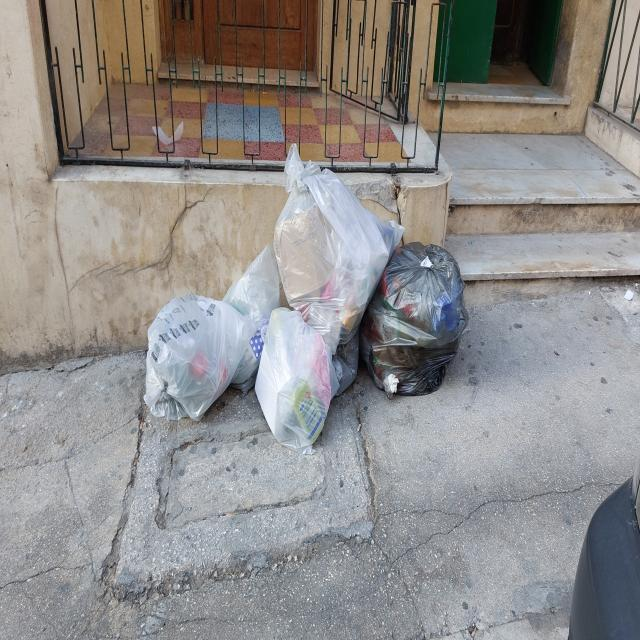Mixed Waste -Black Bag-: (363, 243, 474, 402)
Recycled Waste -Grey or Green Bag-: (274, 144, 406, 346), (143, 286, 257, 430), (259, 305, 335, 456), (224, 243, 282, 400)
